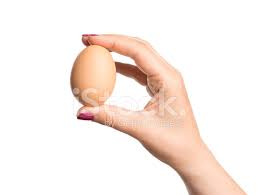egg: (72, 45, 115, 107)
